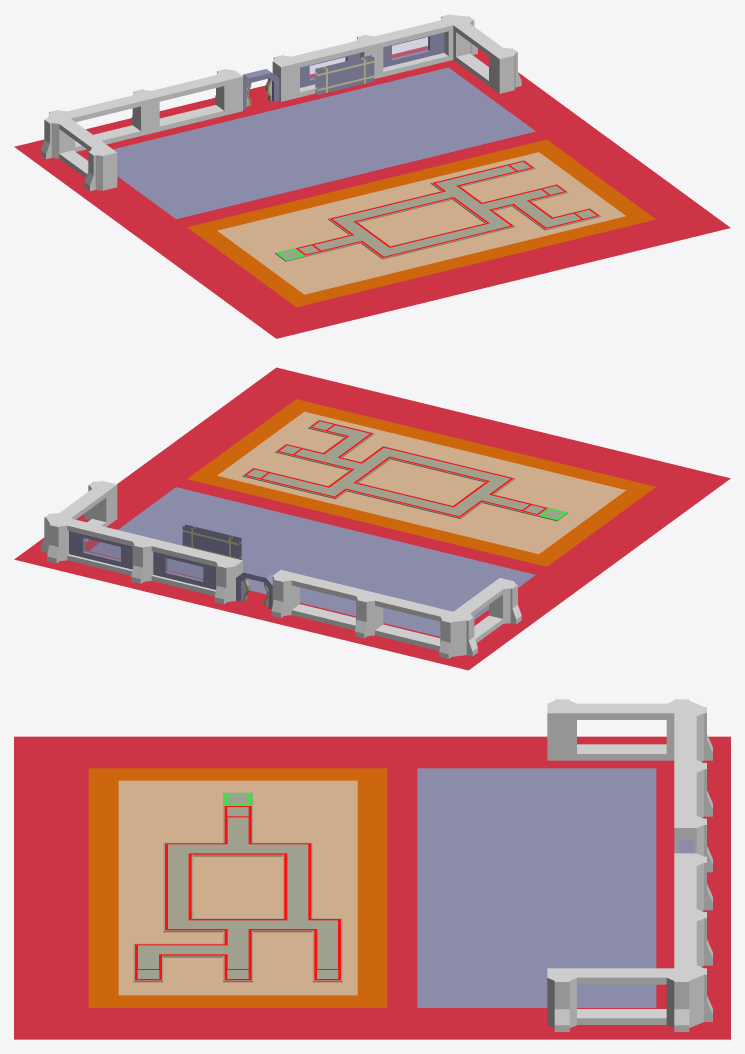
File: Map_Tutorial.glb
3 views of the same model, one above another, from view 1: azimuth 30°, elevation 25°; view 2: azimuth 150°, elevation 25°; view 3: azimuth 270°, elevation 25° (orthographic). The views are drawn at different scales.
Parts seen in each view (by area): view 1: Plane, wall_frame.001, wall_frame.002, wall_full, wall_window.001, door_frame, wall_window; view 2: Plane, wall_frame.001, wall_frame.002, wall_window.001, wall_window, wall_full, door_frame; view 3: Plane, wall_frame.002, wall_frame.001.
Boxes of the visible parts, bbox=[...] form: Plane: bbox=[14, 46, 730, 338]; wall_frame.001: bbox=[40, 69, 242, 190]; wall_frame.002: bbox=[272, 14, 521, 101]; wall_full: bbox=[315, 55, 374, 94]; wall_window.001: bbox=[383, 32, 444, 67]; door_frame: bbox=[242, 69, 279, 109]; wall_window: bbox=[300, 53, 359, 87]; Plane: bbox=[14, 367, 730, 670]; wall_frame.001: bbox=[271, 570, 521, 658]; wall_frame.002: bbox=[40, 481, 242, 604]; wall_window.001: bbox=[69, 531, 132, 569]; wall_window: bbox=[153, 551, 215, 589]; wall_full: bbox=[182, 524, 241, 559]; door_frame: bbox=[236, 568, 272, 608]; Plane: bbox=[14, 736, 730, 1039]; wall_frame.002: bbox=[547, 853, 712, 1031]; wall_frame.001: bbox=[547, 699, 712, 872].
Size of the model in its own units: 48 by 4 by 48.
